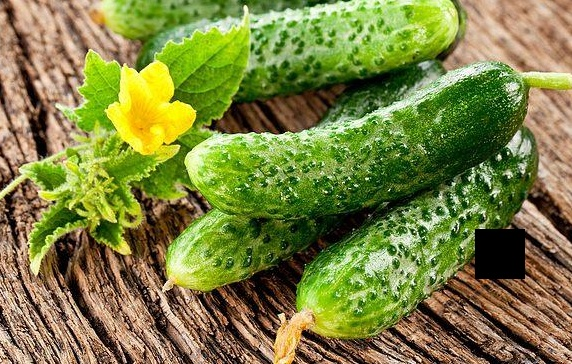cucumber: (311, 124, 535, 328), (192, 72, 520, 211)
cucumber_plant: (35, 8, 246, 248)
